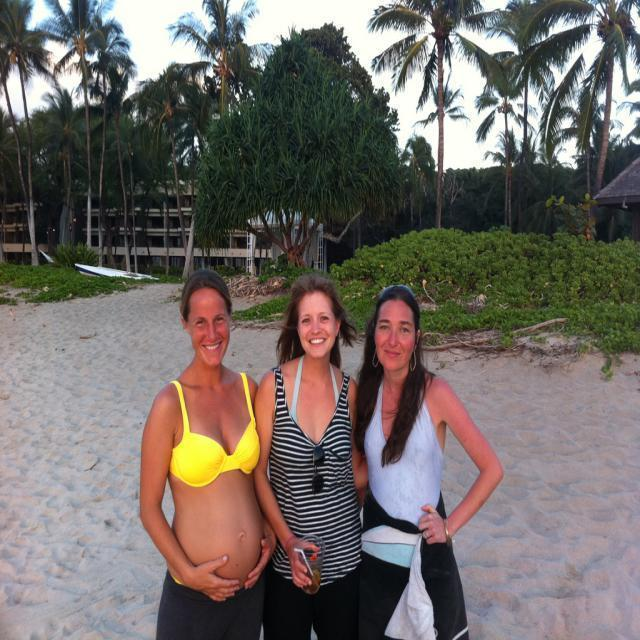closed-mouth: (201, 340, 222, 360), (382, 347, 400, 358)
